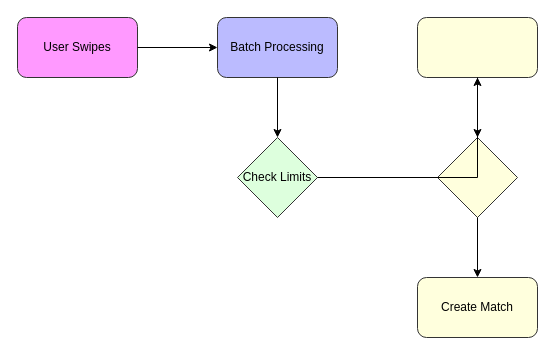
Image size: 555x355. Some labels were removed from this diagram. Each missing label, with the centre of its shape:
Check Mutual Like: (477,177)
Record Like: (477,47)
